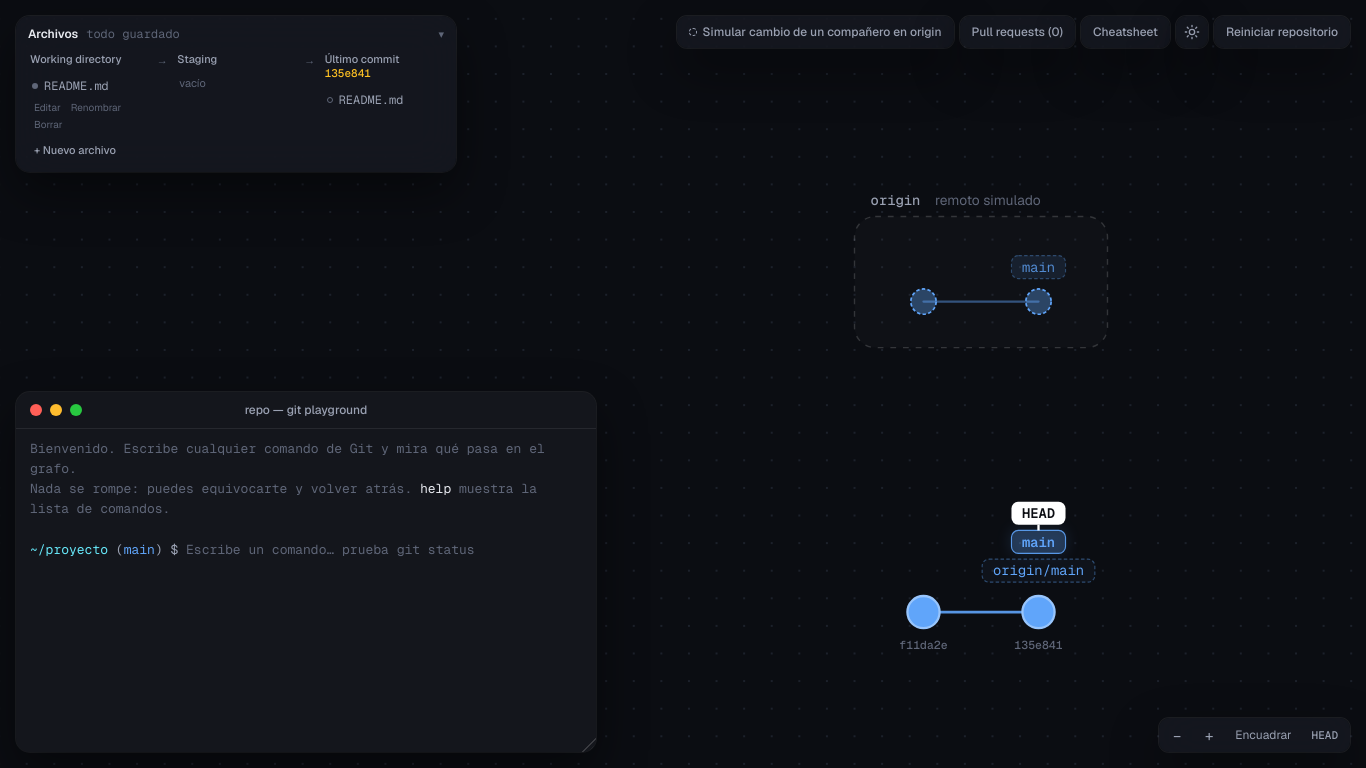
Scenario: PlaygroundShell cheatsheet panel › only offers "Usar" for commands the simulator supports
What coordinates should you click on to do the following:
click the button "Cheatsheet"
I would click on:
 (1125, 32)
Its box is [1081,16,1170,48].
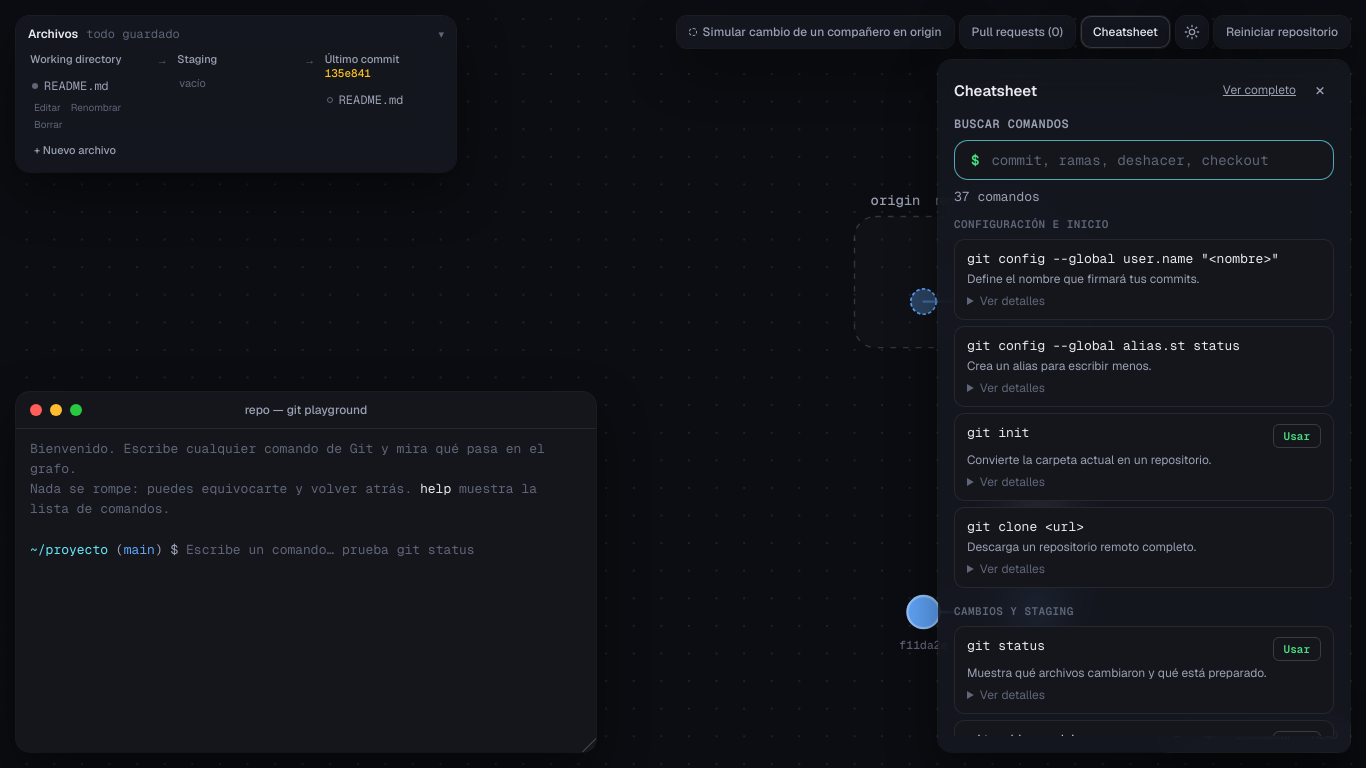
Expected: the button with aria-label "Usar git status" is shown, [1273,637,1321,661]
